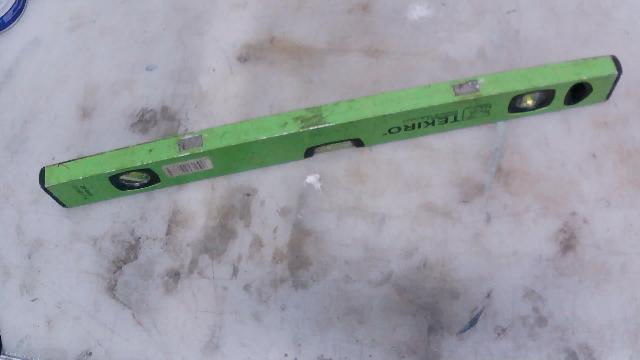water_pass: (24, 48, 635, 249)
